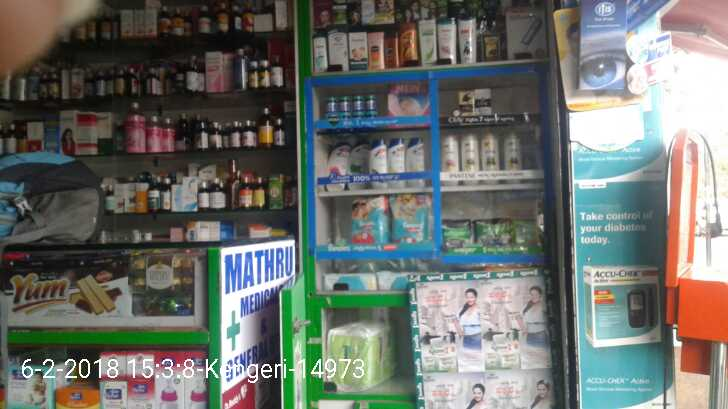beauty: (325, 133, 350, 178), (366, 131, 389, 176), (407, 129, 430, 172), (439, 130, 459, 175), (502, 134, 521, 180), (460, 132, 477, 177), (479, 134, 496, 178), (388, 128, 403, 173), (471, 87, 489, 119), (454, 88, 471, 116)
pharmacy: (386, 190, 433, 246), (344, 192, 388, 248), (475, 218, 510, 248), (441, 217, 473, 248), (510, 213, 535, 251)
